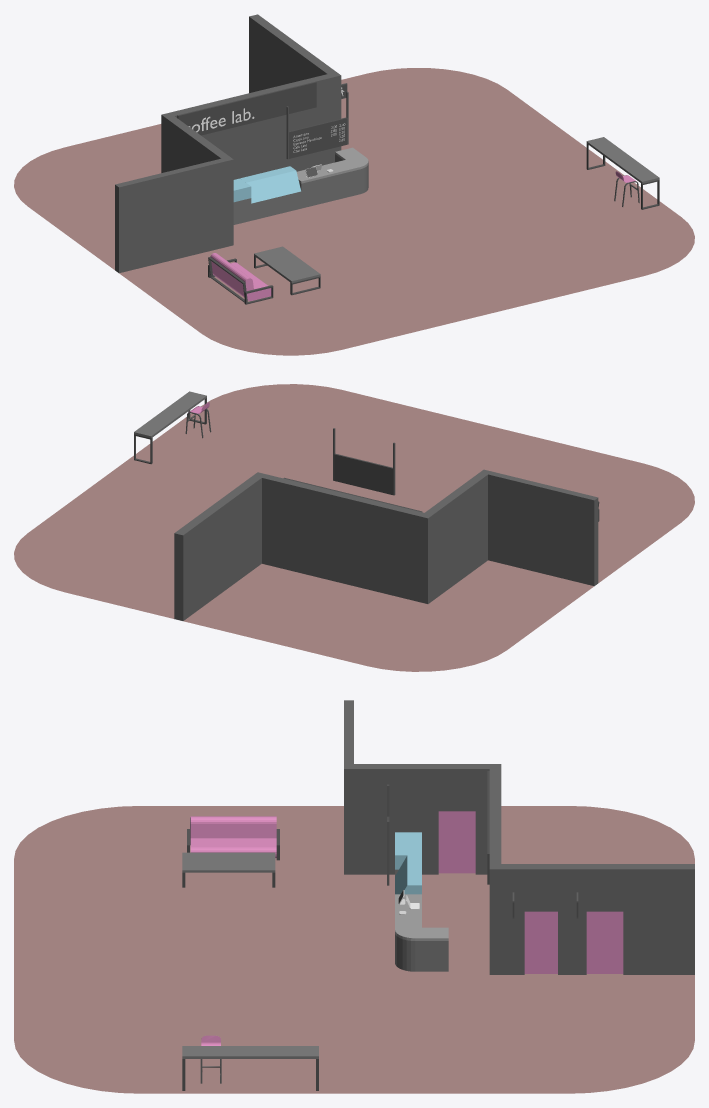
File: EnvCafeInterior.fbx
3 renders of one model, top to bottom at view 1: azimuth 30°, elevation 25°; view 2: azimuth 150°, elevation 25°; view 3: azimuth 270°, elevation 25°, orthographic. The views are drawn at different scales.
Visible parts, largest first — view 1: GroundPlane, Cube.003, Sofa, CoffeeTable, Cube.019; view 2: GroundPlane, Cube.003, Cube.019; view 3: GroundPlane, Cube.003, Sofa, CoffeeTable, Cube.019.
Part boxes in pixels (x1,y1,x2,y2): GroundPlane: (14,68,694,355); Cube.003: (115,14,368,273); Sofa: (208,253,273,304); CoffeeTable: (254,246,320,295); Cube.019: (586,137,659,209); GroundPlane: (14,384,694,671); Cube.003: (174,428,598,620); Cube.019: (134,391,206,464); GroundPlane: (14,806,694,1093); Cube.003: (344,700,694,974); Sofa: (187,816,279,860); CoffeeTable: (182,852,275,887); Cube.019: (182,1046,318,1090).
Size of the model in its own units: 0.19 by 0.0409 by 0.19.
